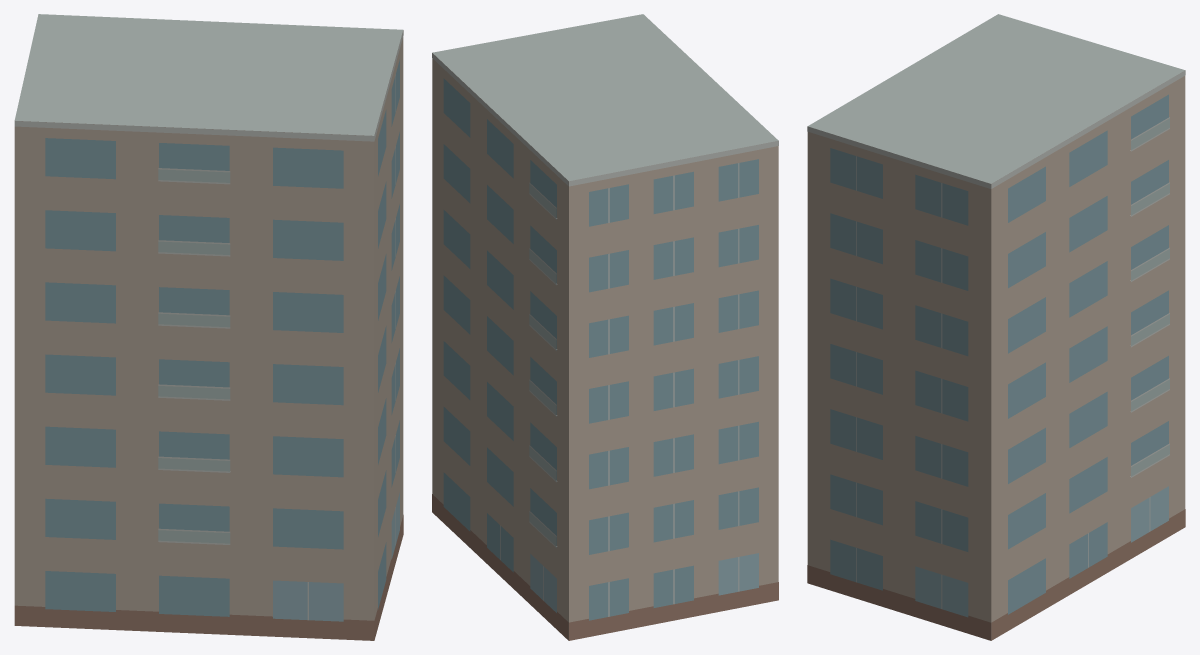
File: survey-upis-32937078.glb
The picture shows the model from 3 angles, left to right: view 1: azimuth 30°, elevation 25°; view 2: azimuth 150°, elevation 25°; view 3: azimuth 270°, elevation 25°; orthographic projection. The views are drawn at different scales.
Visible parts, largest first — view 1: survey-upis-32937078.tmp; view 2: survey-upis-32937078.tmp; view 3: survey-upis-32937078.tmp.
Boxes of the visible parts, left/top/right/bottom form: survey-upis-32937078.tmp: left=14, top=14, right=403, bottom=640; survey-upis-32937078.tmp: left=432, top=14, right=778, bottom=640; survey-upis-32937078.tmp: left=807, top=14, right=1185, bottom=640.
Size of the model in its own units: 17.04 by 21.35 by 16.01.
